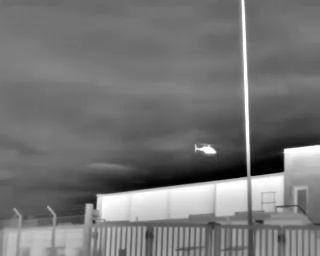HELICOPTER: (190, 138, 222, 161)
